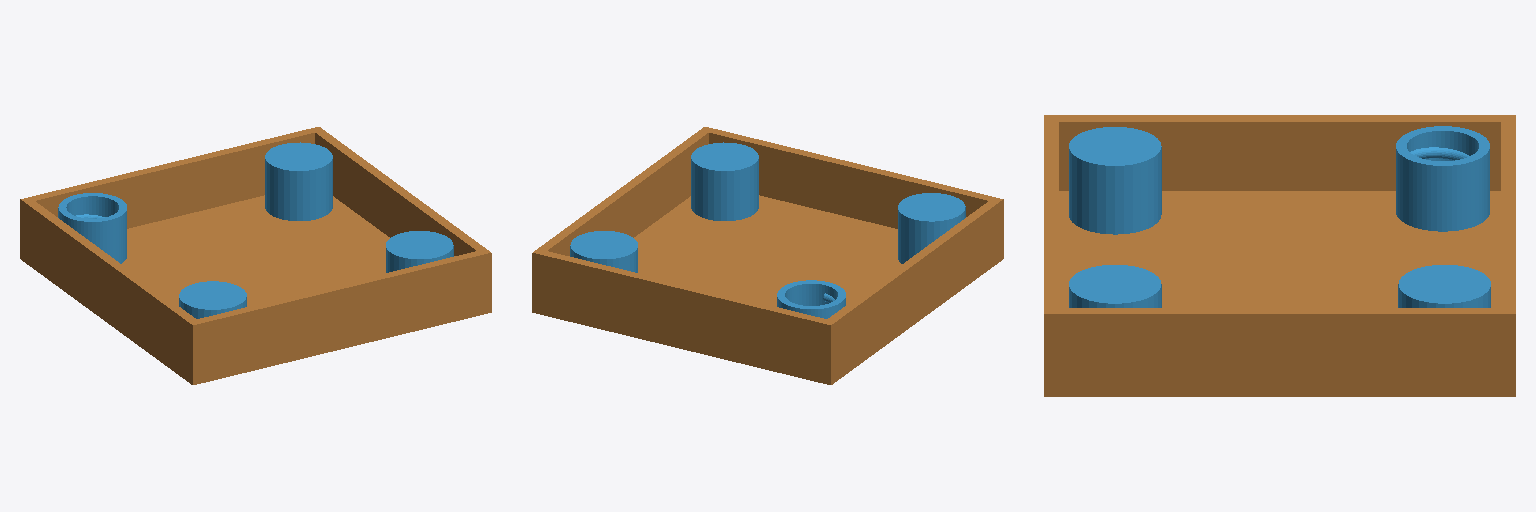
The robot description file, URDF, robot "one_leg_receptive_sdf_hybrid":
<?xml version="1.0" encoding="utf-8"?>
<robot name="one_leg_receptive_sdf_hybrid">
  <link name="receptive">
    <visual>
      <origin xyz="0.000000 0.000000 -0.013125" rpy="0.000000 0.000000 0.000000"/>
      <geometry>
        <box size="0.162500 0.162501 0.005000"/>
      </geometry>
      <material name="bulk"/>
    </visual>
    <collision>
      <origin xyz="0.000000 0.000000 -0.013125" rpy="0.000000 0.000000 0.000000"/>
      <geometry>
        <box size="0.162500 0.162501 0.005000"/>
      </geometry>
    </collision>
    <visual>
      <origin xyz="0.000000 0.078751 0.002500" rpy="0.000000 0.000000 0.000000"/>
      <geometry>
        <box size="0.162500 0.005000 0.026250"/>
      </geometry>
      <material name="bulk"/>
    </visual>
    <collision>
      <origin xyz="0.000000 0.078751 0.002500" rpy="0.000000 0.000000 0.000000"/>
      <geometry>
        <box size="0.162500 0.005000 0.026250"/>
      </geometry>
    </collision>
    <visual>
      <origin xyz="0.000000 -0.078751 0.002500" rpy="0.000000 0.000000 0.000000"/>
      <geometry>
        <box size="0.162500 0.005000 0.026250"/>
      </geometry>
      <material name="bulk"/>
    </visual>
    <collision>
      <origin xyz="0.000000 -0.078751 0.002500" rpy="0.000000 0.000000 0.000000"/>
      <geometry>
        <box size="0.162500 0.005000 0.026250"/>
      </geometry>
    </collision>
    <visual>
      <origin xyz="0.078750 0.000000 0.002500" rpy="0.000000 0.000000 0.000000"/>
      <geometry>
        <box size="0.005000 0.152501 0.026250"/>
      </geometry>
      <material name="bulk"/>
    </visual>
    <collision>
      <origin xyz="0.078750 0.000000 0.002500" rpy="0.000000 0.000000 0.000000"/>
      <geometry>
        <box size="0.005000 0.152501 0.026250"/>
      </geometry>
    </collision>
    <visual>
      <origin xyz="-0.078750 0.000000 0.002500" rpy="0.000000 0.000000 0.000000"/>
      <geometry>
        <box size="0.005000 0.152501 0.026250"/>
      </geometry>
      <material name="bulk"/>
    </visual>
    <collision>
      <origin xyz="-0.078750 0.000000 0.002500" rpy="0.000000 0.000000 0.000000"/>
      <geometry>
        <box size="0.005000 0.152501 0.026250"/>
      </geometry>
    </collision>
    <visual>
      <origin xyz="0.000000 0.000000 0.000000" rpy="0.000000 0.000000 0.000000"/>
      <geometry>
        <mesh filename="../hole_patches/sdf_hybrid/one_leg_hole_detail.obj" scale="1 1 1"/>
      </geometry>
      <material name="hole_detail"/>
    </visual>
    <collision>
      <origin xyz="0.000000 0.000000 0.000000" rpy="0.000000 0.000000 0.000000"/>
      <geometry>
        <mesh filename="../hole_patches/sdf_hybrid/one_leg_hole_detail.obj" scale="1 1 1"/>
      </geometry>
      <sdf resolution="256"/>
    </collision>
    <!-- Inactive holes (3 corners not targeted by the one_leg task). Cylinder
         visual+collision approximating the chunk of table material around
         each hole. Dimensions match the active-hole-detail mesh extents
         (~32 × 32 × 27 mm → r=16 mm, length=27 mm). Active corner is
         (-0.05625, +0.05687); the others are the mirrored XY positions.
         z=0.002 to align with the hole-detail mesh z-center. -->
    <visual name="hole_inact_0_v">
      <origin xyz="0.05625 0.05687 0.002" rpy="0 0 0"/>
      <geometry><cylinder radius="0.016" length="0.027"/></geometry>
      <material name="hole_detail"/>
    </visual>
    <collision name="hole_inact_0_c">
      <origin xyz="0.05625 0.05687 0.002" rpy="0 0 0"/>
      <geometry><cylinder radius="0.016" length="0.027"/></geometry>
    </collision>
    <visual name="hole_inact_1_v">
      <origin xyz="-0.05625 -0.05687 0.002" rpy="0 0 0"/>
      <geometry><cylinder radius="0.016" length="0.027"/></geometry>
      <material name="hole_detail"/>
    </visual>
    <collision name="hole_inact_1_c">
      <origin xyz="-0.05625 -0.05687 0.002" rpy="0 0 0"/>
      <geometry><cylinder radius="0.016" length="0.027"/></geometry>
    </collision>
    <visual name="hole_inact_2_v">
      <origin xyz="0.05625 -0.05687 0.002" rpy="0 0 0"/>
      <geometry><cylinder radius="0.016" length="0.027"/></geometry>
      <material name="hole_detail"/>
    </visual>
    <collision name="hole_inact_2_c">
      <origin xyz="0.05625 -0.05687 0.002" rpy="0 0 0"/>
      <geometry><cylinder radius="0.016" length="0.027"/></geometry>
    </collision>
  </link>
  <material name="bulk">
    <color rgba="0.78 0.55 0.30 1.0"/>
  </material>
  <material name="hole_detail">
    <color rgba="0.30 0.65 0.85 1.0"/>
  </material>
</robot>

--- Facts derived from the render (not from the file) ---
The picture shows the robot from 3 angles, left to right: view 1: azimuth 30°, elevation 25°; view 2: azimuth 150°, elevation 25°; view 3: azimuth 270°, elevation 25°; orthographic projection.
Robot: one_leg_receptive_sdf_hybrid — 1 links, 0 joints (none); root link receptive; default pose: all joints at 0.
Links seen in each view (by area): view 1: receptive; view 2: receptive; view 3: receptive.
Boxes of the visible links, x1,y1,x2,y2 form: receptive: (20,127,491,384); receptive: (532,127,1003,384); receptive: (1044,115,1515,396).
Size in the robot's own frame: 0.1625 by 0.1625 by 0.0312 metres.
1 mesh visuals loaded from 1 distinct referenced files (1 OBJ).
